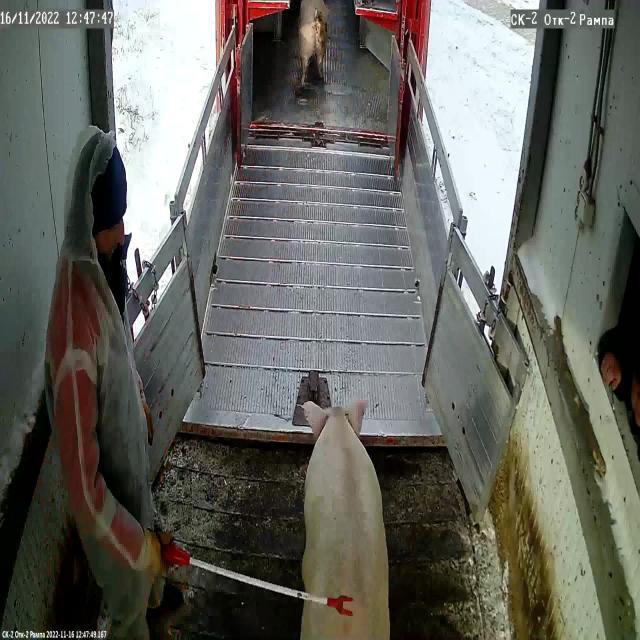pig: (300, 399, 390, 640), (299, 0, 328, 88)
